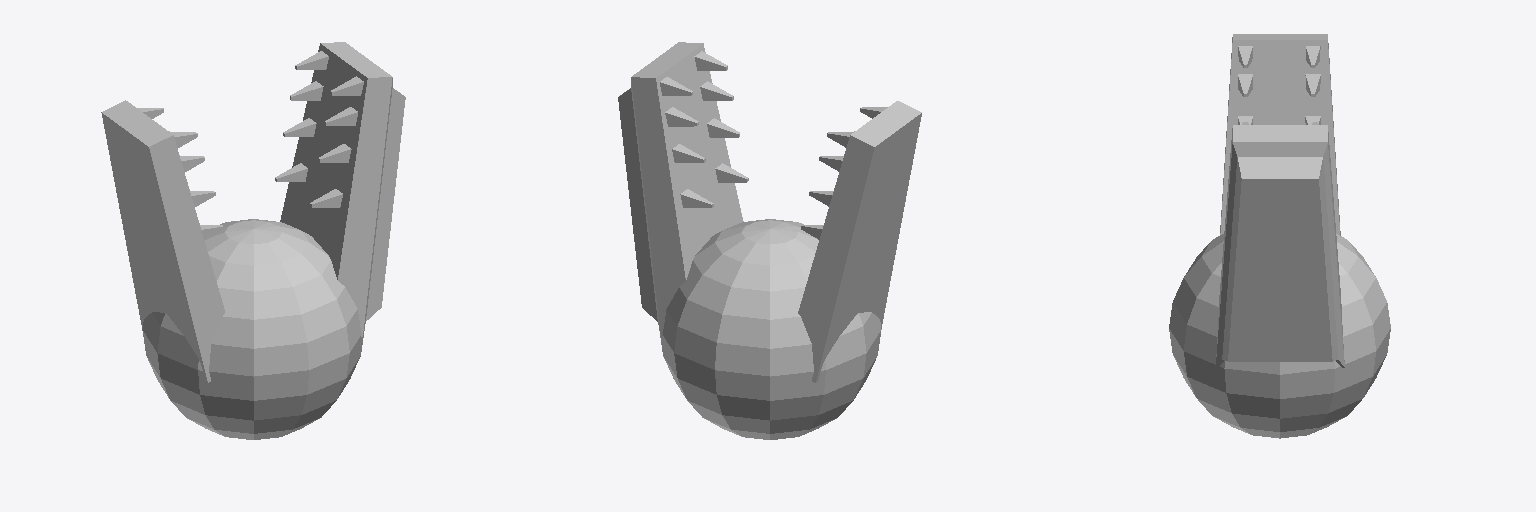
File: mouth4paint.obj
3 views of the same model, side by side, from view 1: azimuth 30°, elevation 25°; view 2: azimuth 150°, elevation 25°; view 3: azimuth 270°, elevation 25° (orthographic).
Parts seen in each view (by area): view 1: polySurface1; view 2: polySurface1; view 3: polySurface1.
Boxes of the visible parts, x1,y1,x2,y2 form: polySurface1: [101, 42, 405, 439]; polySurface1: [618, 42, 921, 439]; polySurface1: [1169, 34, 1390, 438].
Bounding box in the file's own units: 7.62 × 9.68 × 5.61.